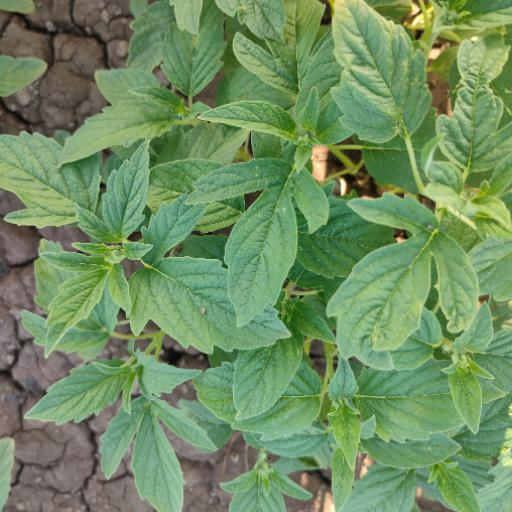crop: (1, 1, 508, 512)
